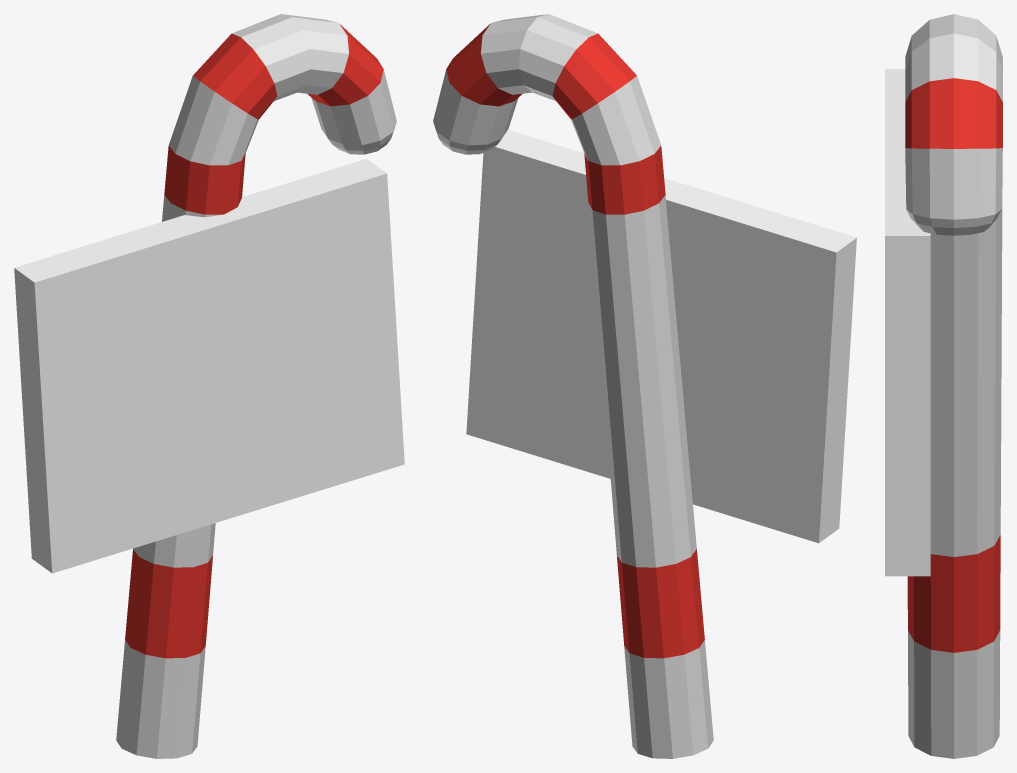
Rendered from Texturizado_Cartel_Peligro_001.glb.
3 views of the same model, side by side, from view 1: azimuth 30°, elevation 25°; view 2: azimuth 150°, elevation 25°; view 3: azimuth 270°, elevation 25° (orthographic). The views are drawn at different scales.
Parts seen in each view (by area): view 1: Mesh_Cartel_Peligro_001, Mesh_Baston_Peligro_001; view 2: Mesh_Cartel_Peligro_001, Mesh_Baston_Peligro_001; view 3: Mesh_Baston_Peligro_001, Mesh_Cartel_Peligro_001.
Boxes of the visible parts, box(x1,y1,x2,y2) form: Mesh_Cartel_Peligro_001: box(14, 158, 404, 573); Mesh_Baston_Peligro_001: box(116, 14, 396, 758); Mesh_Cartel_Peligro_001: box(466, 129, 856, 543); Mesh_Baston_Peligro_001: box(433, 14, 713, 758); Mesh_Baston_Peligro_001: box(905, 14, 1002, 758); Mesh_Cartel_Peligro_001: box(885, 69, 930, 576).
Bounding box in the file's own units: 2.74 × 4.71 × 0.6447.
